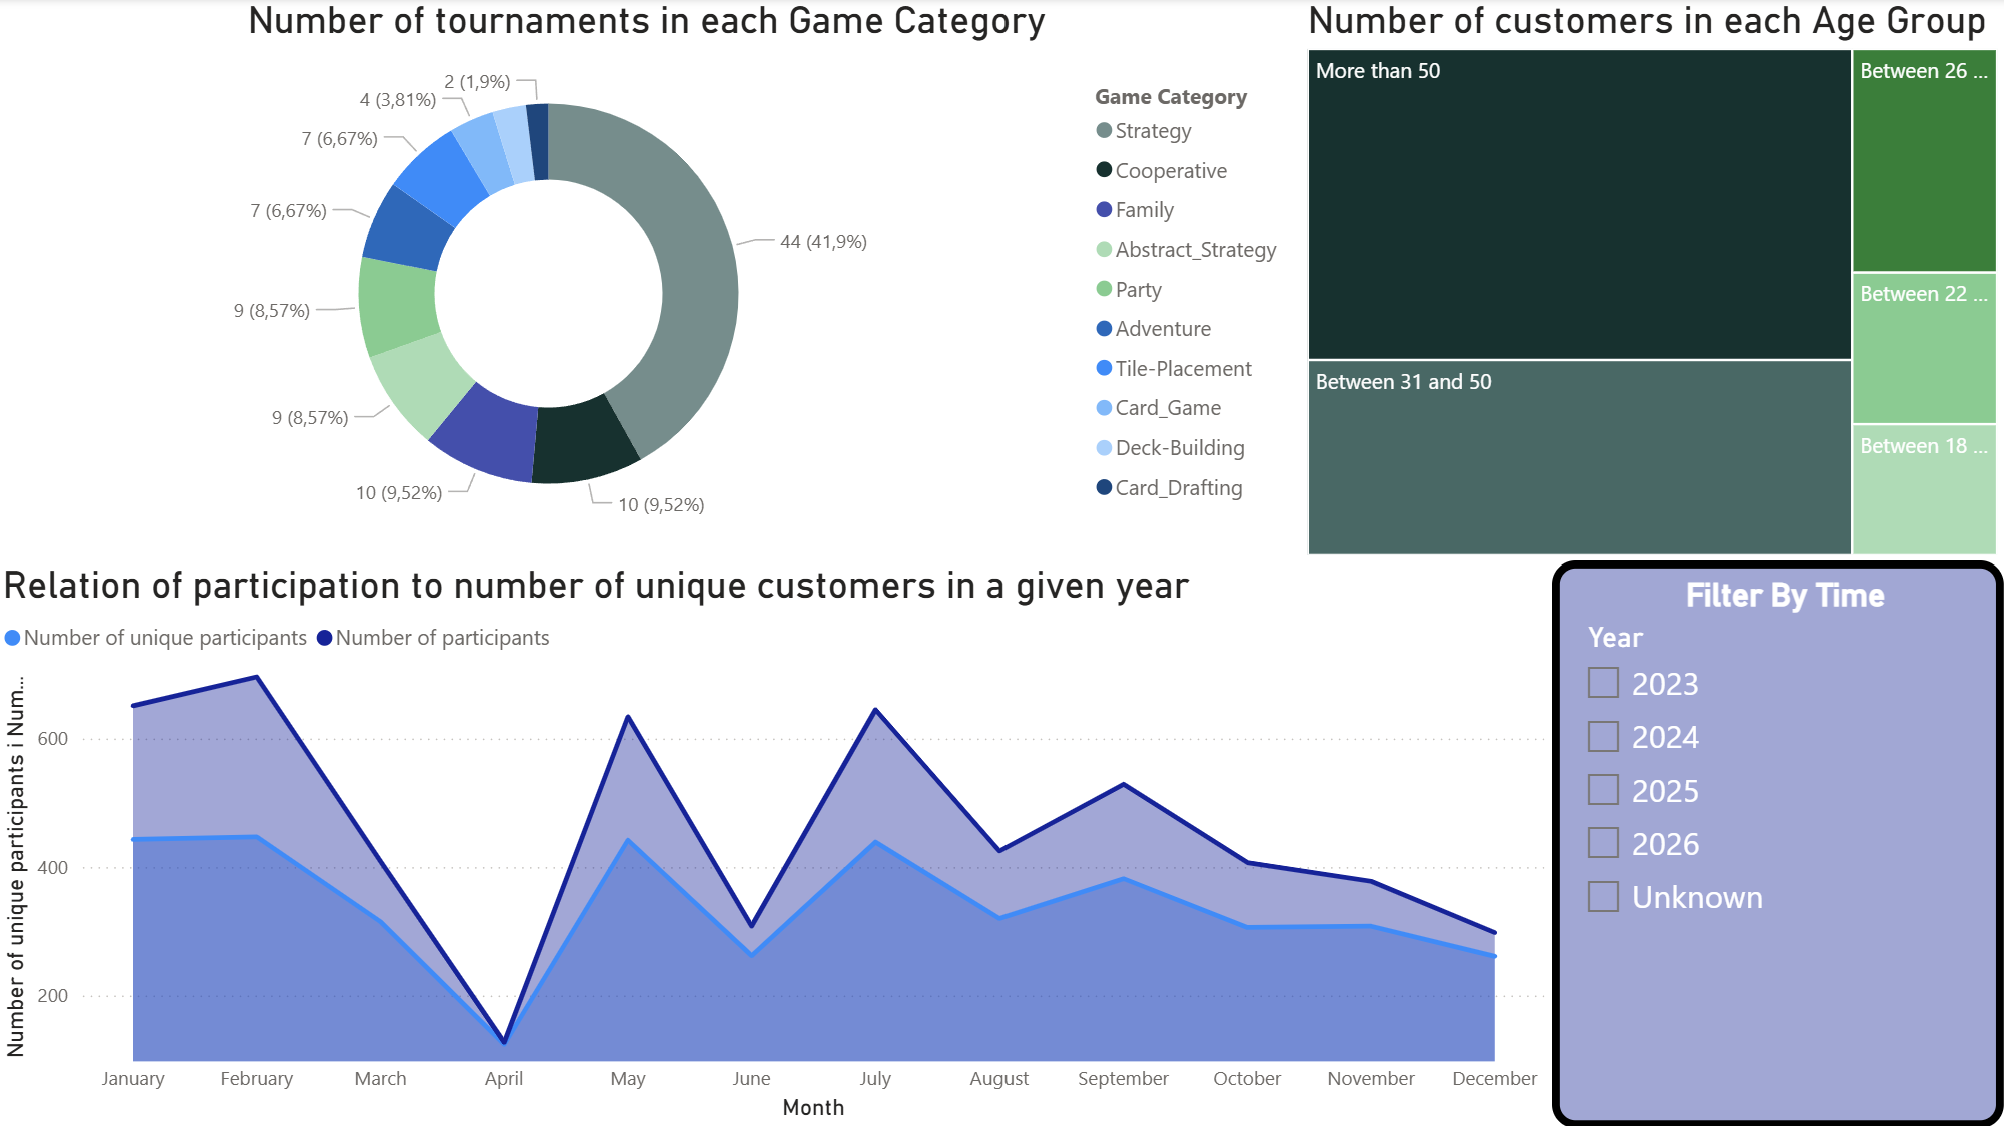

This screenshot's page, from the dashboard's own definition file:
{"tool":"powerbi","page":{"name":"dashboard3","canvas":[1280,720],"ordinal":2},"visuals":[{"type":"treemap","title":"Number of customers in each Age Group","fields":{"Group":["Customer.Age Group"],"Values":["Participation.Number of unique participants"]},"box":[830.7,0,449.3,360],"z":1},{"type":"areaChart","title":"Relation of participation to number of unique customers in a given year","fields":{"Category":["Date.Month"],"Y":["Participation.Number of unique participants","Participation.Number of participants"]},"box":[0,360,992,360],"z":2},{"type":"donutChart","title":"Number of tournaments in each Game Category","fields":{"Y":["Tournament Organization (Measures).Number of tournaments"],"Category":["Board Game.Game Category"]},"box":[0,0,830.7,349.3],"z":3},{"type":"slicer","title":"Filter By Time","fields":{"Values":["Date.Year"]},"box":[992,358.7,288,361.3],"z":4}]}

Visuals, with their boxes in screenshot pixels (x1, y1, x2, y2), scaled from the page's 1280x720 canvas onto the 2004x1126 screenshot:
"Number of customers in each Age Group" treemap: rect(1301, 0, 2003, 563)
"Relation of participation to number of unique customers in a given year" areaChart: rect(0, 563, 1553, 1125)
"Number of tournaments in each Game Category" donutChart: rect(0, 0, 1301, 546)
"Filter By Time" slicer: rect(1553, 561, 2003, 1125)
